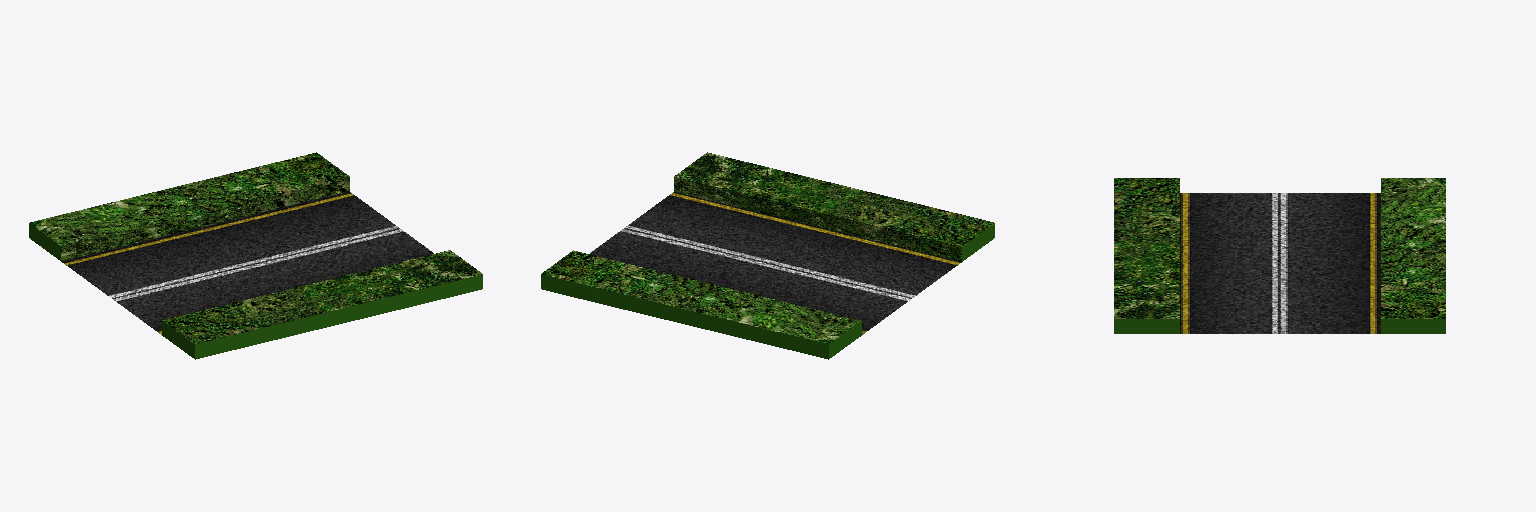
3 renders of one model, left to right at view 1: azimuth 30°, elevation 25°; view 2: azimuth 150°, elevation 25°; view 3: azimuth 270°, elevation 25°, orthographic.
Visible parts, largest first — view 1: Plane; view 2: Plane; view 3: Plane.
Boxes of the visible parts, <box> form: Plane: <box>29,152,482,359</box>; Plane: <box>541,152,994,359</box>; Plane: <box>1114,178,1445,333</box>.
Bounding box in the file's own units: 20 × 1 × 20.
Materials: 1 (1 with a texture image).